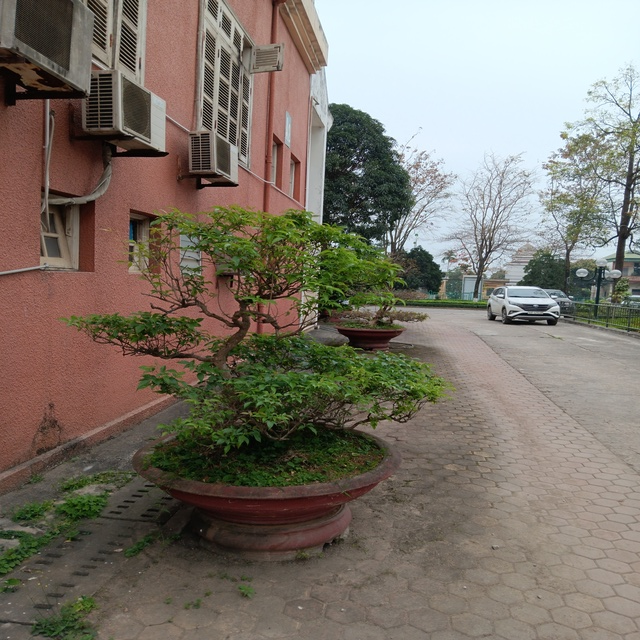caycanh: (88, 200, 426, 564), (316, 200, 439, 371)
